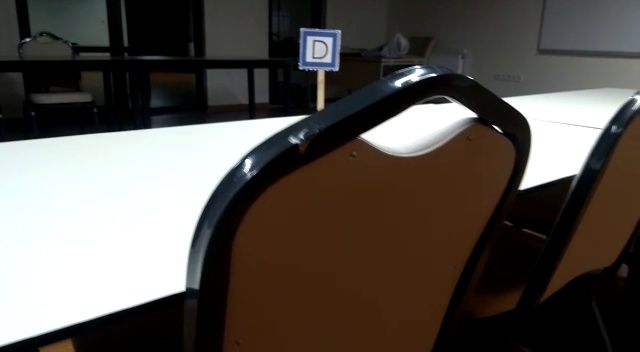durak: (299, 31, 339, 69)
